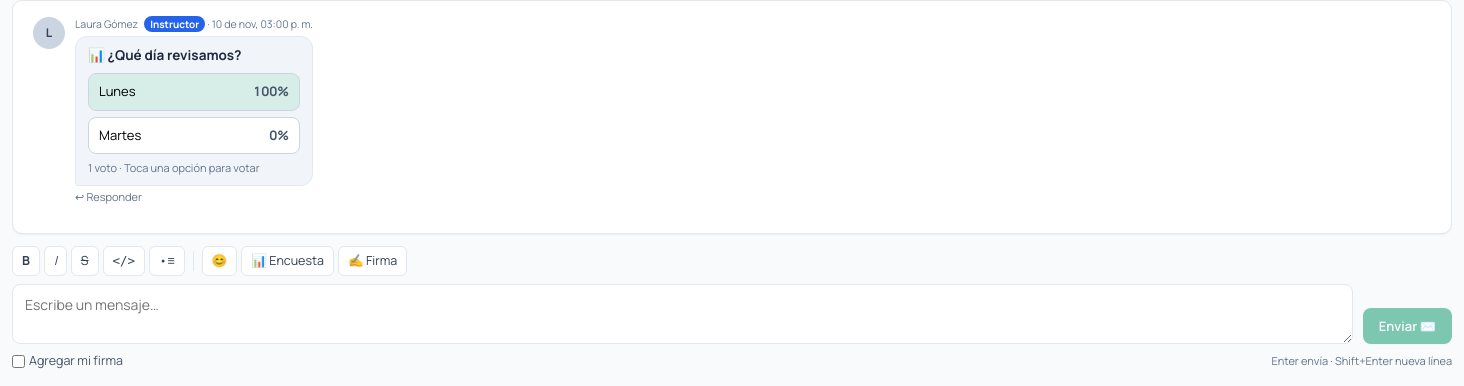
Test case: ChatProyecto › should vote in a poll and show the new results
What coordinates should you click on to do the following:
click the button with aria-label "Martes: 0 votos"
I would click on:
 (194, 135)
Its box is [88, 116, 300, 154].
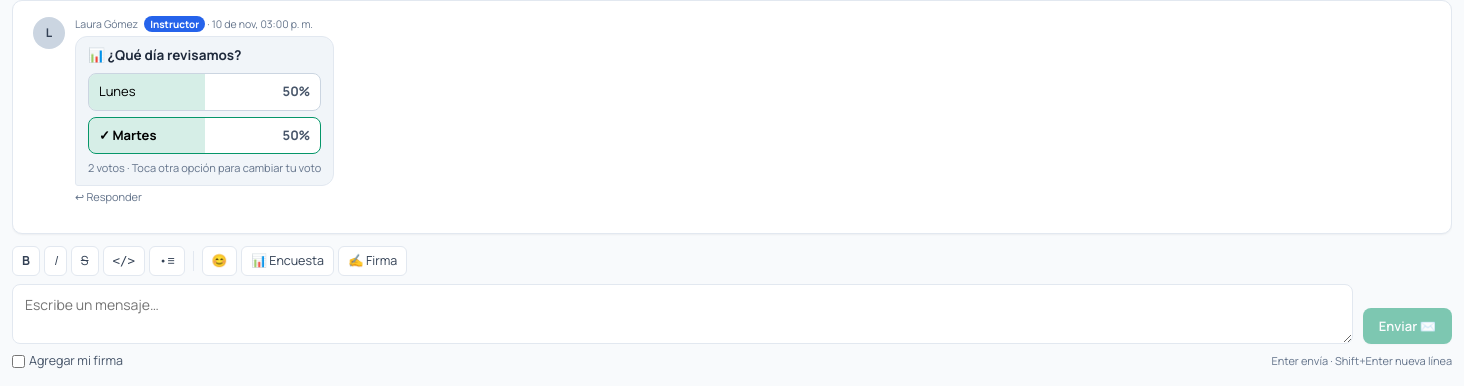
Result: the text "2 votos · Toca otra opción para cambiar tu voto" is shown at [88, 160, 321, 176]
